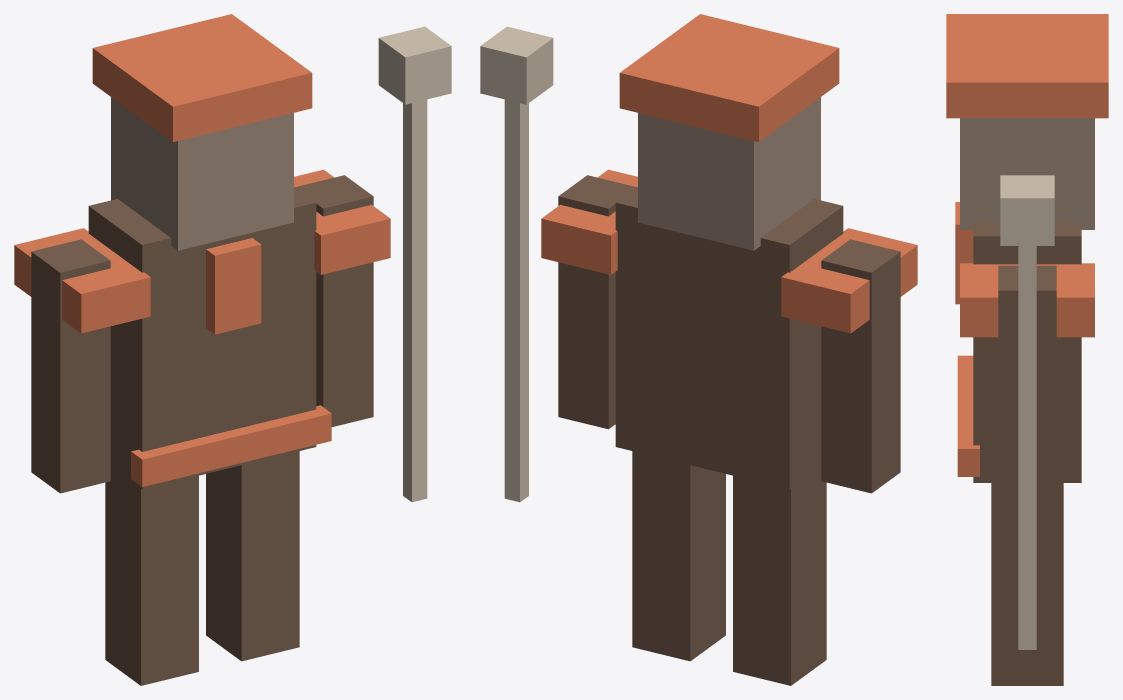
File: 16_bex_gravesong_cartographer_of_server.glb
3 renders of one model, left to right at view 1: azimuth 30°, elevation 25°; view 2: azimuth 150°, elevation 25°; view 3: azimuth 270°, elevation 25°, orthographic.
Visible parts, largest first — view 1: Bex Gravesong, Cartographer of Server; view 2: Bex Gravesong, Cartographer of Server; view 3: Bex Gravesong, Cartographer of Server.
Part boxes in pixels (box(x1,y1,x2,y2)): Bex Gravesong, Cartographer of Server: box(14, 14, 451, 685); Bex Gravesong, Cartographer of Server: box(480, 14, 917, 685); Bex Gravesong, Cartographer of Server: box(946, 14, 1108, 685).
Size of the model in its own units: 1.03 by 1.48 by 0.3638.
